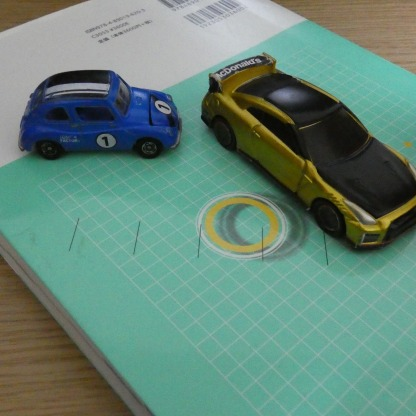car: (202, 51, 416, 252), (19, 70, 183, 160)
